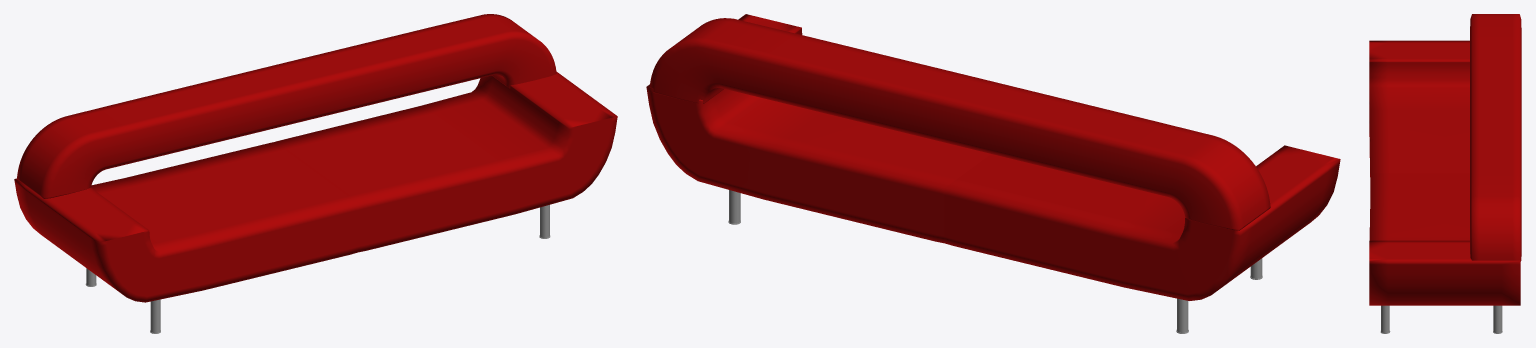
Rendered from sofa.obj.
3 renders of one model, left to right at view 1: azimuth 30°, elevation 25°; view 2: azimuth 150°, elevation 25°; view 3: azimuth 270°, elevation 25°, orthographic. The views are drawn at different scales.
Parts seen in each view (by area): view 1: Cube_Cube.002, Cube.001, Cylinder; view 2: Cube_Cube.002, Cube.001, Cylinder; view 3: Cube_Cube.002, Cube.001, Cylinder.001_Cylinder.002.
Part boxes in pixels (bbox=[...]): Cube_Cube.002: bbox=[14, 71, 617, 302]; Cube.001: bbox=[17, 14, 556, 198]; Cylinder: bbox=[85, 268, 160, 333]; Cube_Cube.002: bbox=[646, 14, 1340, 300]; Cube.001: bbox=[649, 18, 1270, 230]; Cylinder: bbox=[1176, 258, 1262, 333]; Cube_Cube.002: bbox=[1369, 40, 1520, 305]; Cube.001: bbox=[1470, 14, 1521, 261]; Cylinder.001_Cylinder.002: bbox=[1380, 305, 1502, 333].
Bounding box in the file's own units: 13.05 × 3.92 × 3.81.
